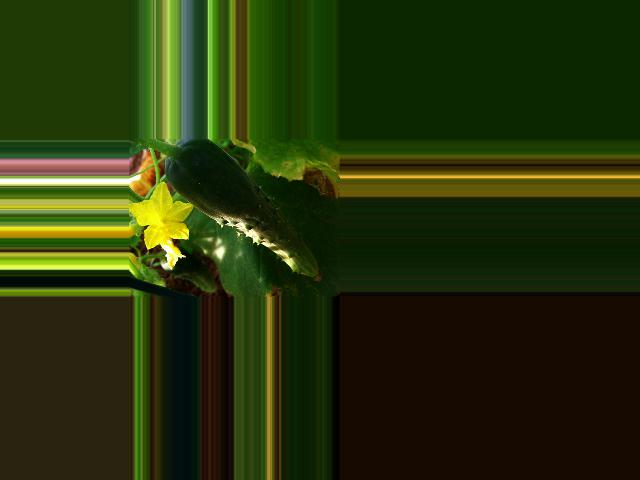cucumber: (164, 138, 322, 282)
